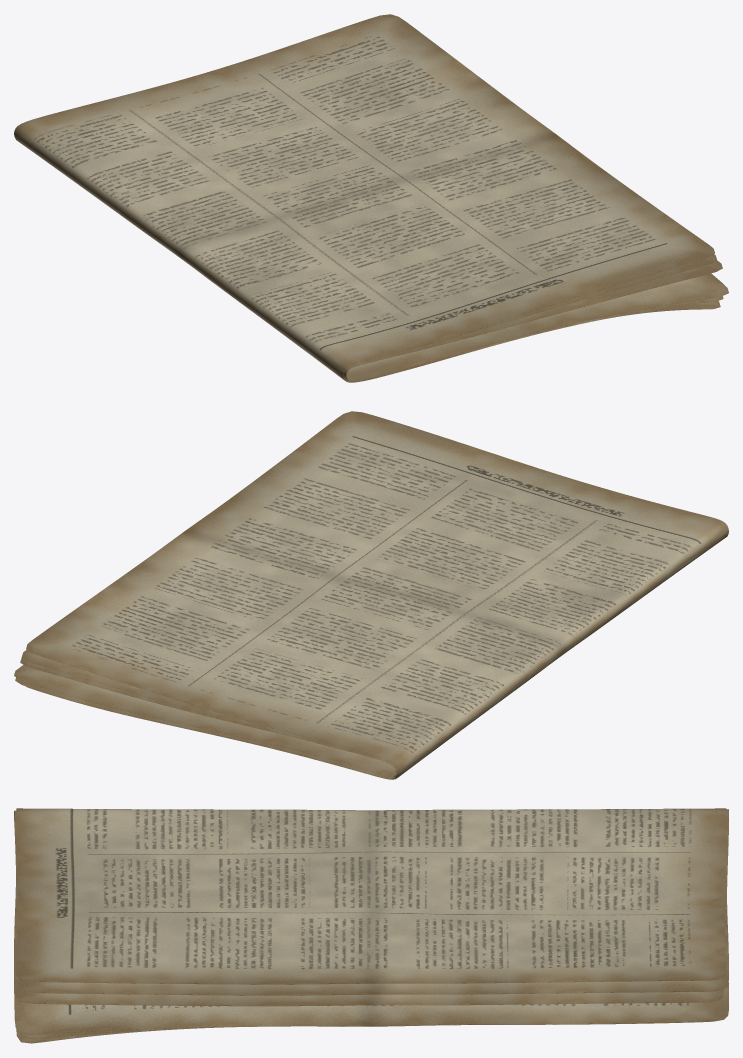
Rendered from jornal_1.glb.
3 views of the same model, one above another, from view 1: azimuth 30°, elevation 25°; view 2: azimuth 150°, elevation 25°; view 3: azimuth 270°, elevation 25° (orthographic). The views are drawn at different scales.
Visible parts, largest first — view 1: Jornal_1; view 2: Jornal_1; view 3: Jornal_1.
Part boxes in pixels (box(x1,y1,x2,y2)): Jornal_1: box(14, 14, 728, 382); Jornal_1: box(14, 411, 728, 779); Jornal_1: box(14, 808, 728, 1043).
Bounding box in the file's own units: 0.331 × 0.046 × 0.4845.
Materials: 2 (2 with a texture image).
